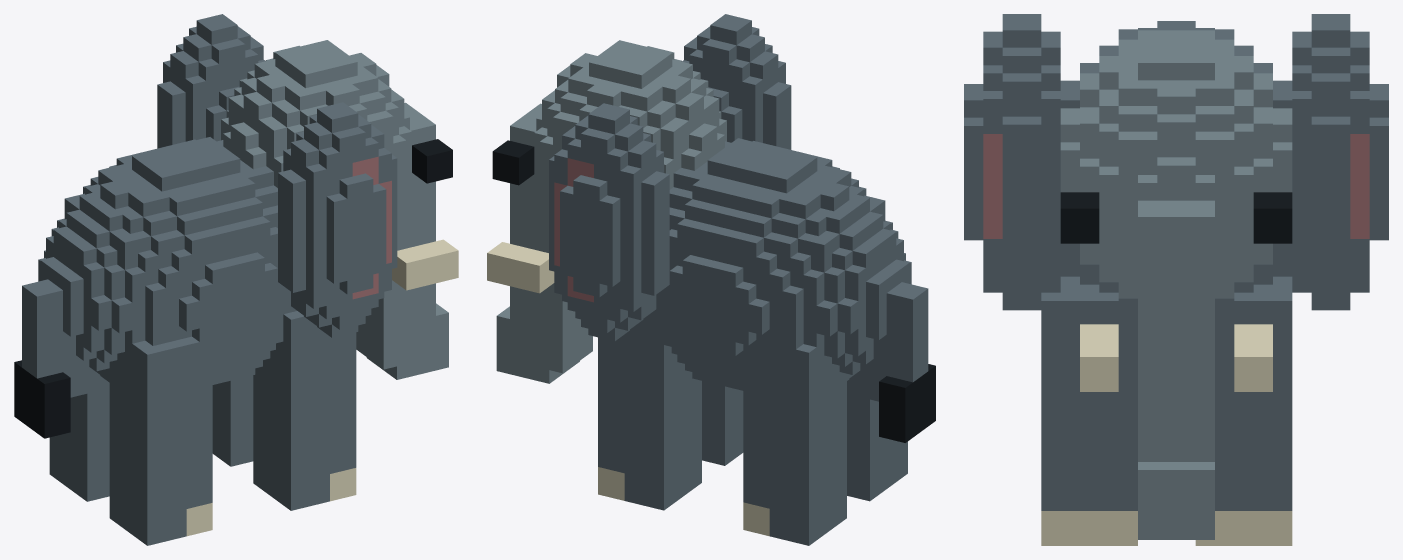
File: lake_elephant.fbx
The picture shows the model from 3 angles, left to right: view 1: azimuth 30°, elevation 25°; view 2: azimuth 150°, elevation 25°; view 3: azimuth 270°, elevation 25°; orthographic projection. The views are drawn at different scales.
Parts seen in each view (by area): view 1: LakeElephant; view 2: LakeElephant; view 3: LakeElephant.
Boxes of the visible parts, x1,y1,x2,y2 form: LakeElephant: (14, 14, 458, 545); LakeElephant: (487, 14, 935, 545); LakeElephant: (964, 14, 1388, 545).
Size of the model in its own units: 310 by 220 by 290.
1 material, 1 textured.
